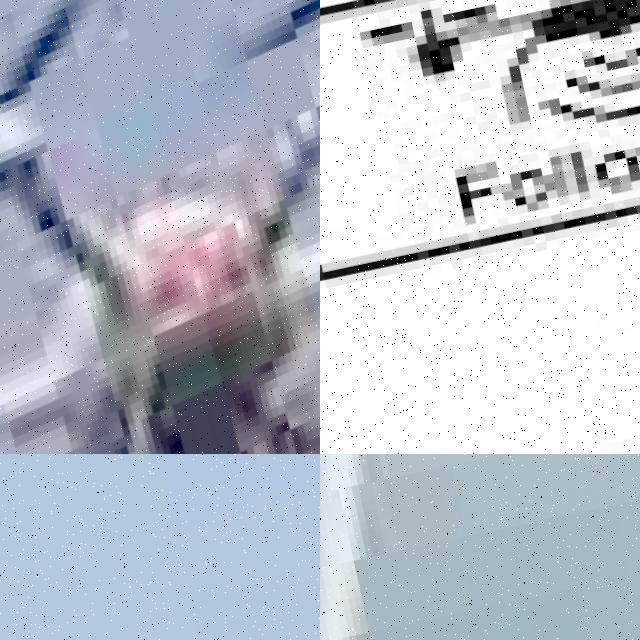drone: (0, 0, 320, 454)
